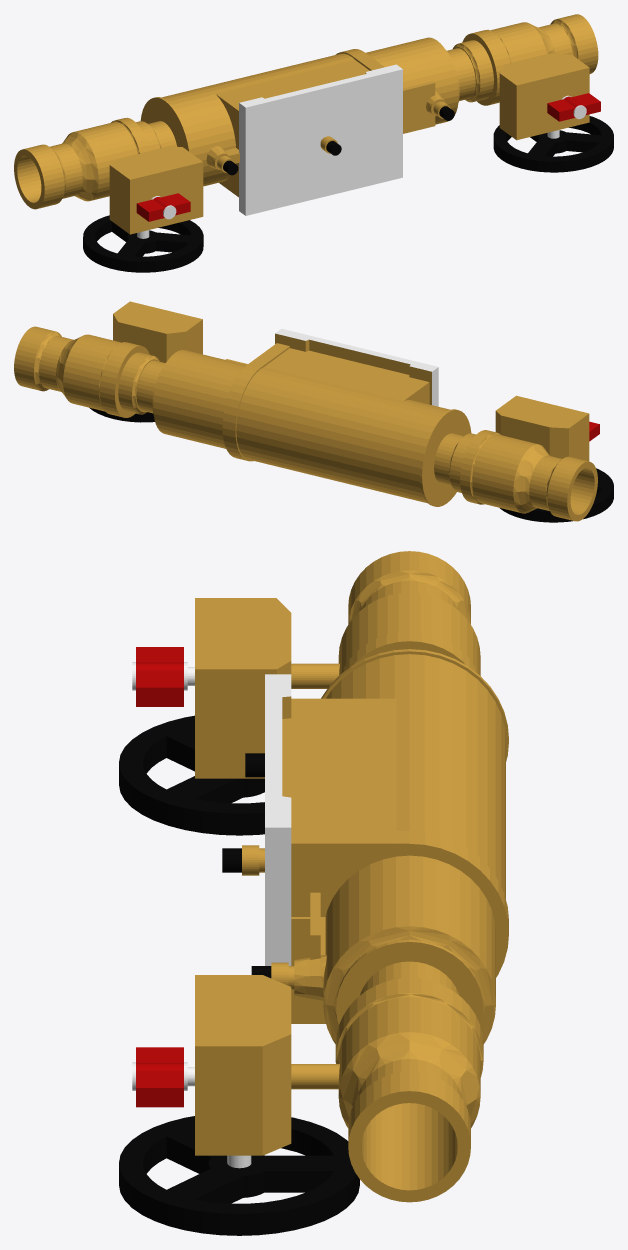
File: 2000B-FP_vntana.glb
3 renders of one model, top to bottom at view 1: azimuth 30°, elevation 25°; view 2: azimuth 150°, elevation 25°; view 3: azimuth 270°, elevation 25°, orthographic. The views are drawn at different scales.
Visible parts, largest first — view 1: asset-5889a2fc-58fd-4825-be30-1ba10d49857e; view 2: asset-5889a2fc-58fd-4825-be30-1ba10d49857e; view 3: asset-5889a2fc-58fd-4825-be30-1ba10d49857e.
Part boxes in pixels (x1,y1,x2,y2): asset-5889a2fc-58fd-4825-be30-1ba10d49857e: (14, 14, 613, 272); asset-5889a2fc-58fd-4825-be30-1ba10d49857e: (14, 301, 613, 522); asset-5889a2fc-58fd-4825-be30-1ba10d49857e: (119, 551, 508, 1235).
Bounding box in the file's own units: 0.3366 × 0.0629 × 0.1028.
